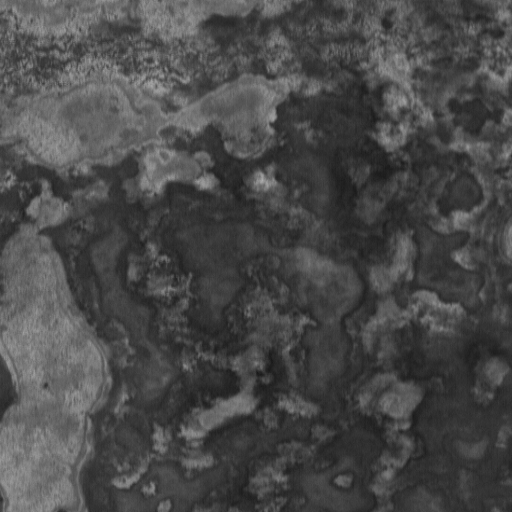aokeng: (1, 176, 119, 510)
